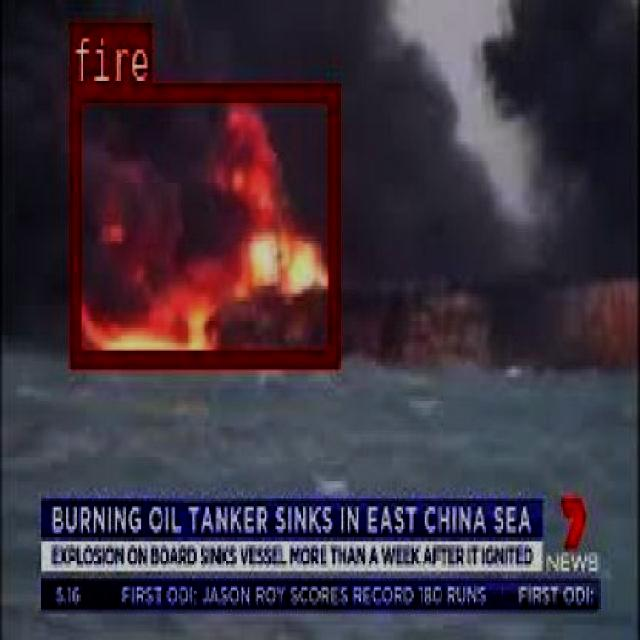fire: (70, 84, 336, 362)
